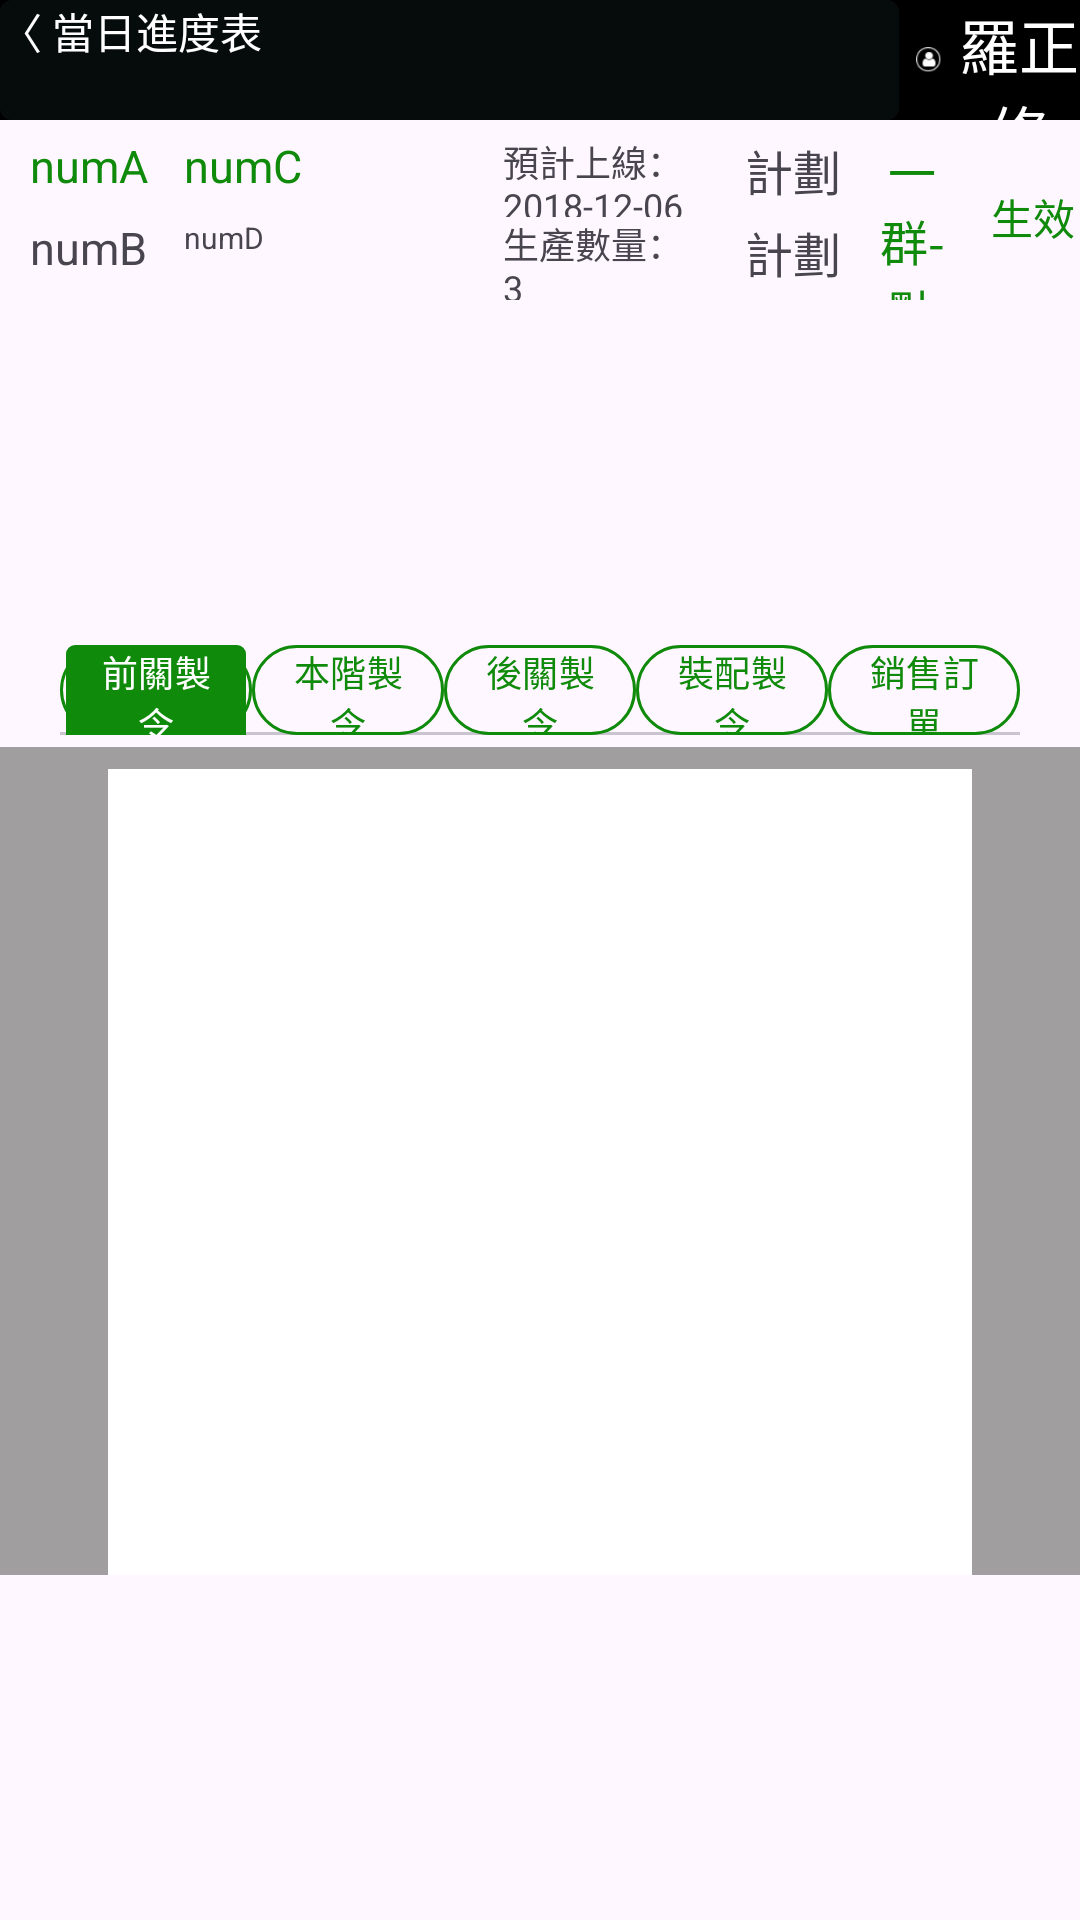

Locate icon controls on the screen. Image size 1080w x 1920h, boxes as (x1, y1, x2, y2).
people: (916, 47, 941, 72)
